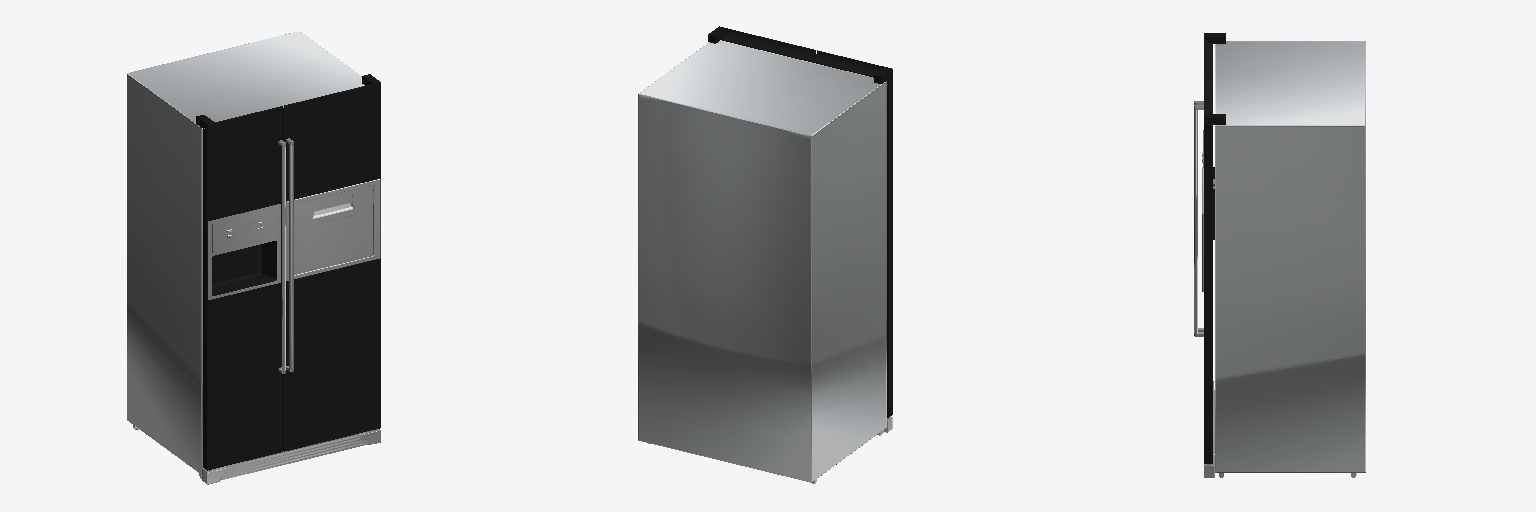
3 views of the same model, side by side, from view 1: azimuth 30°, elevation 25°; view 2: azimuth 150°, elevation 25°; view 3: azimuth 270°, elevation 25° (orthographic).
Parts seen in each view (by area): view 1: solid_001, solid_003, solid_002; view 2: solid_003, solid_001; view 3: solid_003, solid_001, solid_002.
Boxes of the visible parts, x1=… form: solid_001: x1=196, y1=74, x2=380, y2=470; solid_003: x1=127, y1=31, x2=364, y2=474; solid_002: x1=133, y1=138, x2=380, y2=484; solid_003: x1=638, y1=40, x2=886, y2=482; solid_001: x1=708, y1=26, x2=892, y2=417; solid_003: x1=1215, y1=41, x2=1365, y2=472; solid_001: x1=1204, y1=33, x2=1225, y2=463; solid_002: x1=1194, y1=101, x2=1356, y2=477.
Bounding box in the file's own units: 0.8042 × 1.6 × 0.6905.
1 materials, 1 textured.